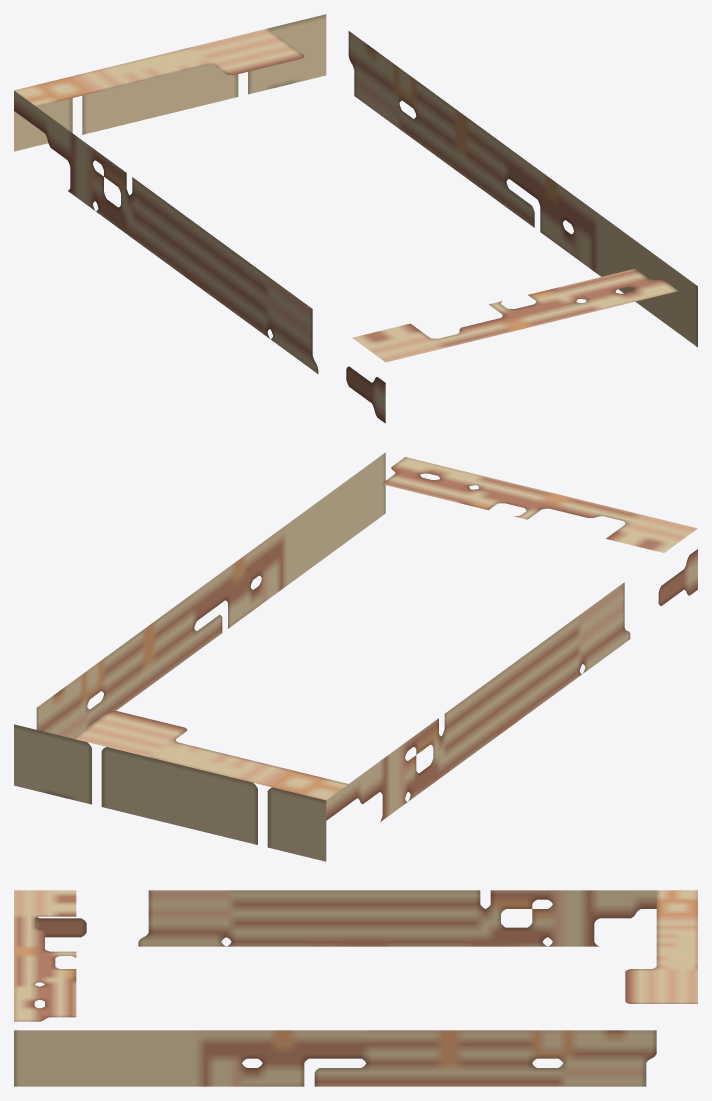
The model's file is graveUnbuilt.dae.
3 views of the same model, one above another, from view 1: azimuth 30°, elevation 25°; view 2: azimuth 150°, elevation 25°; view 3: azimuth 270°, elevation 25° (orthographic). The views are drawn at different scales.
Visible parts, largest first — view 1: cuboid; view 2: cuboid; view 3: cuboid.
Boxes of the visible parts, left/top/right/bottom form: cuboid: left=14, top=14, right=697, bottom=423; cuboid: left=14, top=452, right=697, bottom=861; cuboid: left=14, top=890, right=697, bottom=1086.
Bounding box in the file's own units: 1 × 0.1875 × 2.06.
